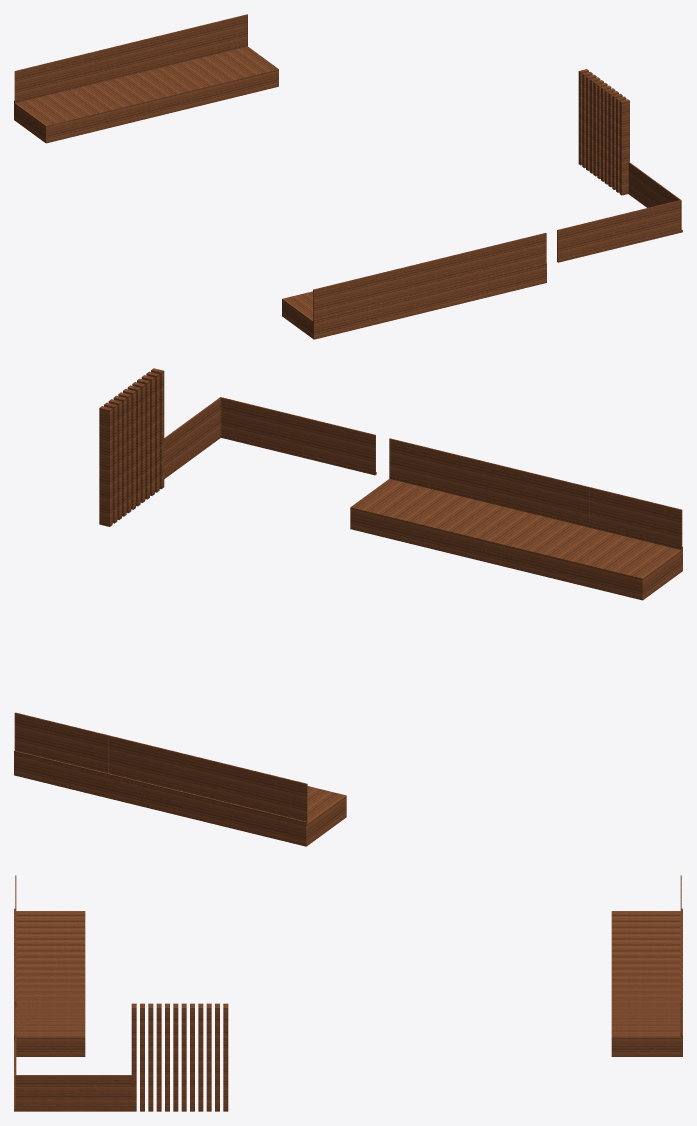
File: decking.obj
3 views of the same model, one above another, from view 1: azimuth 30°, elevation 25°; view 2: azimuth 150°, elevation 25°; view 3: azimuth 270°, elevation 25° (orthographic). The views are drawn at different scales.
Visible parts, largest first — view 1: decking_MH1_OBJ_01; view 2: decking_MH1_OBJ_01; view 3: decking_MH1_OBJ_01.
Boxes of the visible parts, x1,y1,x2,y2 form: decking_MH1_OBJ_01: (14,14,682,339); decking_MH1_OBJ_01: (14,368,682,846); decking_MH1_OBJ_01: (14,875,682,1111).
Bounding box in the file's own units: 399 × 114 × 562.
1 material, 1 textured.
